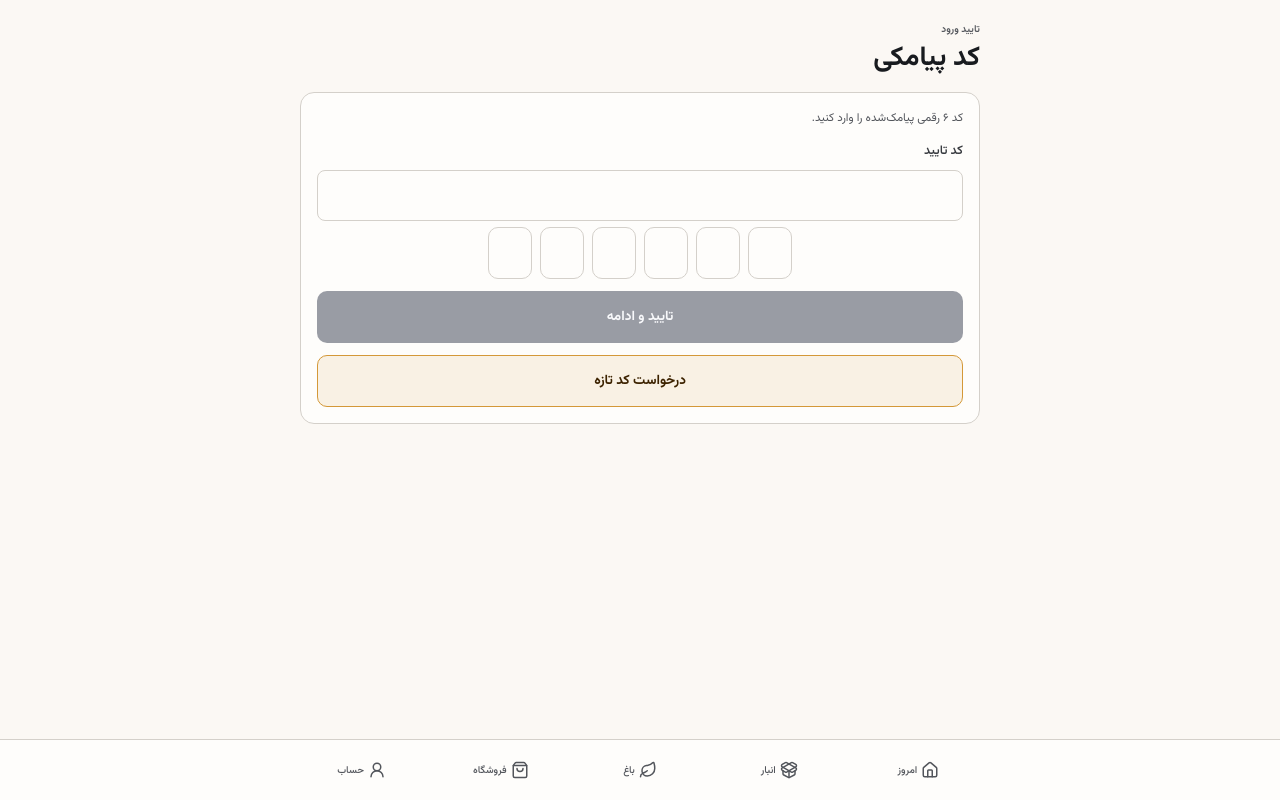
Scenario: canonical T8 onboarding forms › shows a distinct inline banner for OTP consumed without exposing tokens
Type "123456" into the field labelled "کد تایید". click: (640, 196)
box: [317,170,963,221]
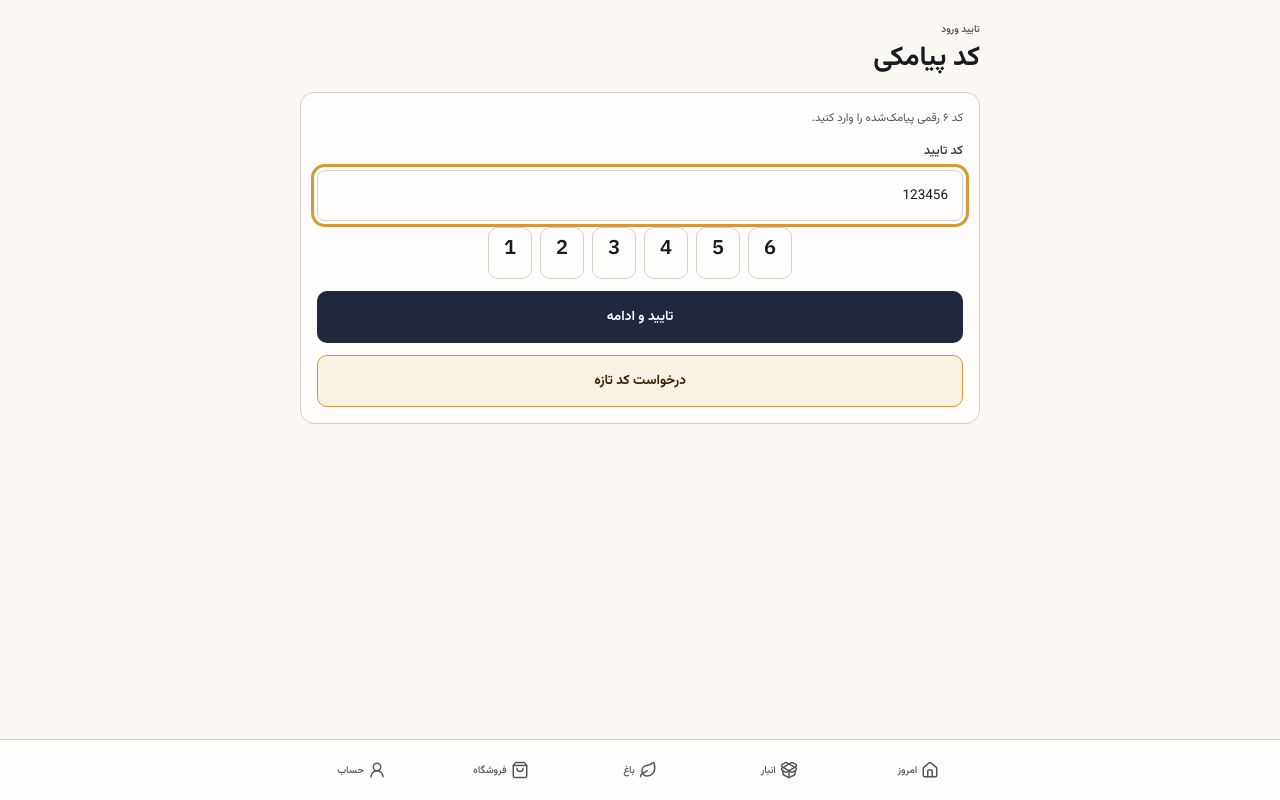
Click the button "تایید و ادامه". click: (640, 317)
box: [317,291,963,343]
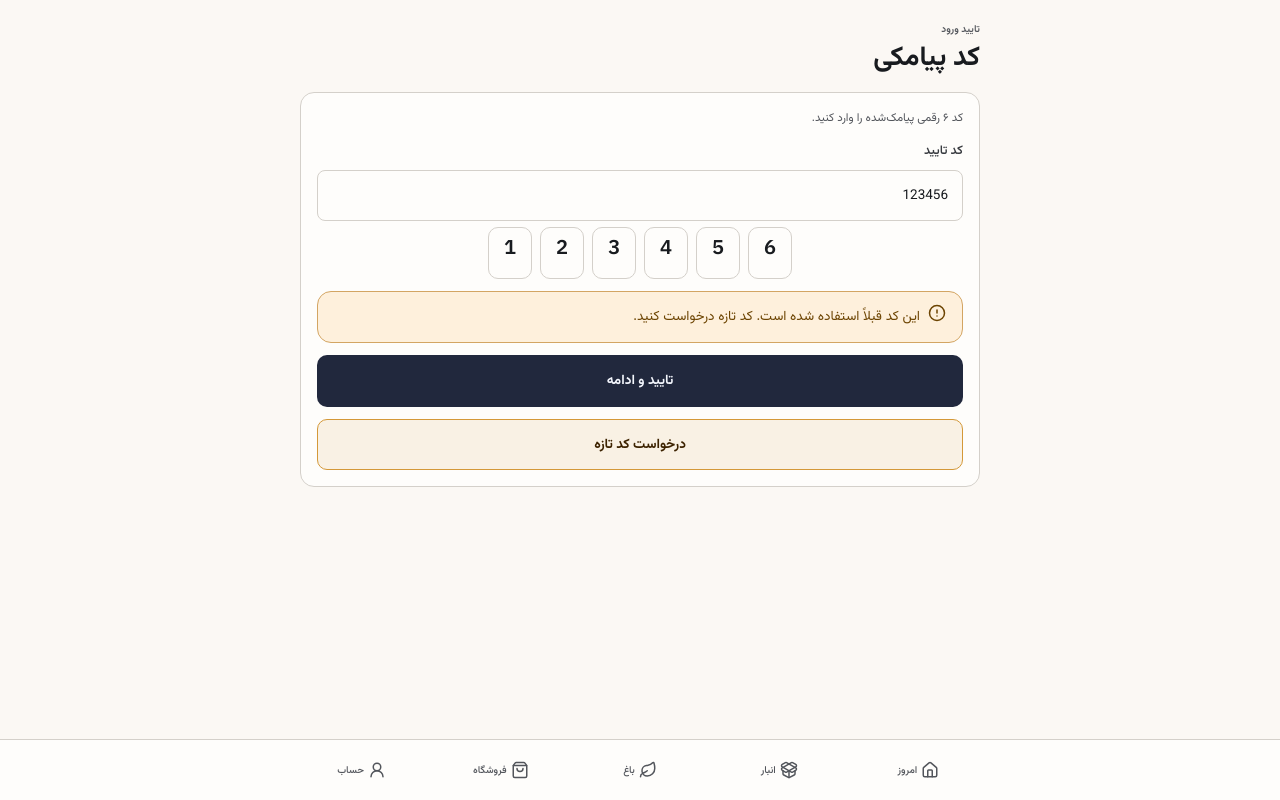
Result: the text "این کد قبلاً استفاده شده است. کد تازه درخواست کنید." is shown at [633,304,920,330]
